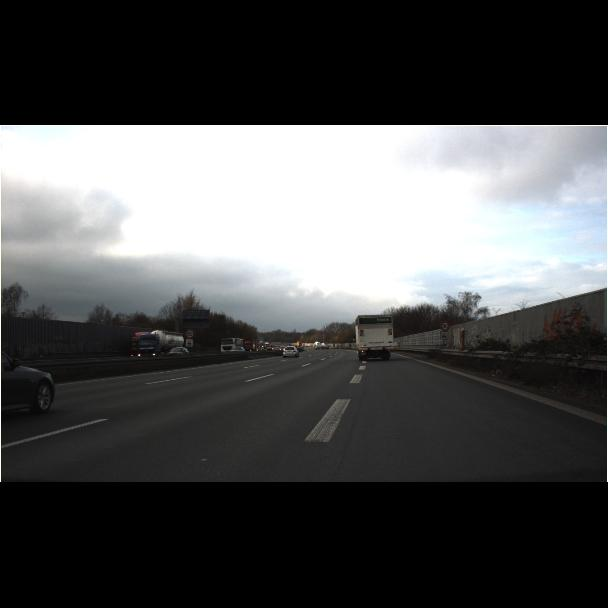NO-speed limit 80: (185, 321, 450, 339)
